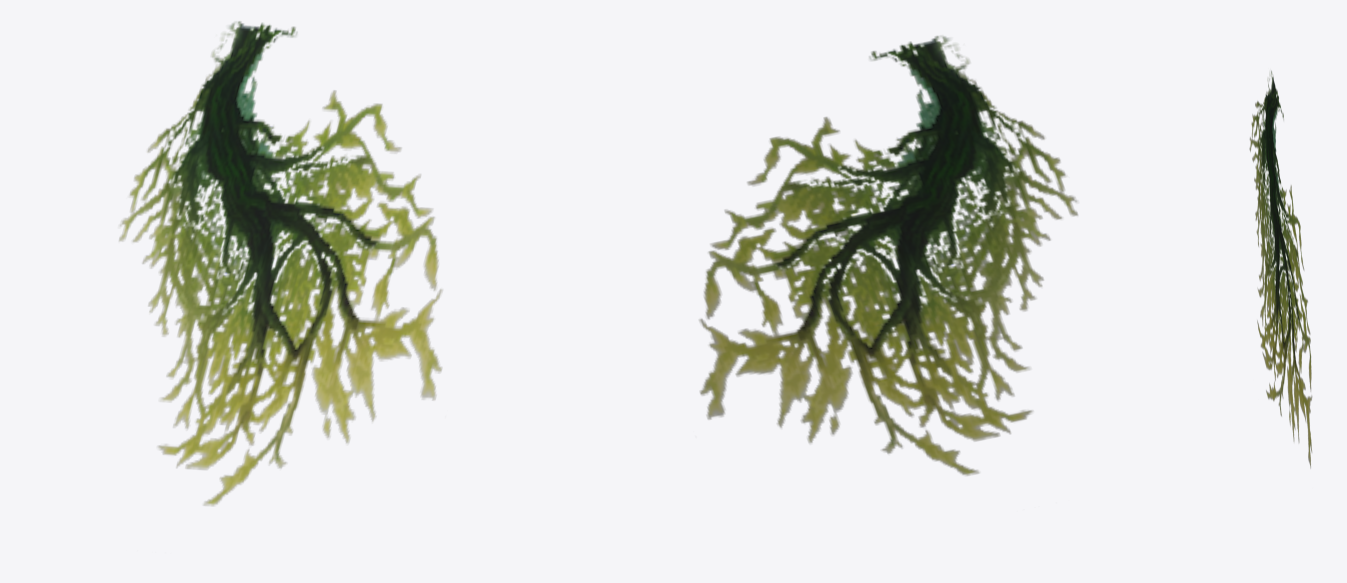
The model's file is algae_h_5.gltf.
3 views of the same model, side by side, from view 1: azimuth 30°, elevation 25°; view 2: azimuth 150°, elevation 25°; view 3: azimuth 270°, elevation 25° (orthographic). The views are drawn at different scales.
Visible parts, largest first — view 1: algae_h_5; view 2: algae_h_5; view 3: algae_h_5.
Part boxes in pixels (box(x1,y1,x2,y2)): algae_h_5: box(119, 21, 442, 506); algae_h_5: box(699, 36, 1078, 475); algae_h_5: box(1249, 70, 1312, 468).
Size of the model in its own units: 3.01 by 3.08 by 0.6318.
Materials: 1 (1 with a texture image).
